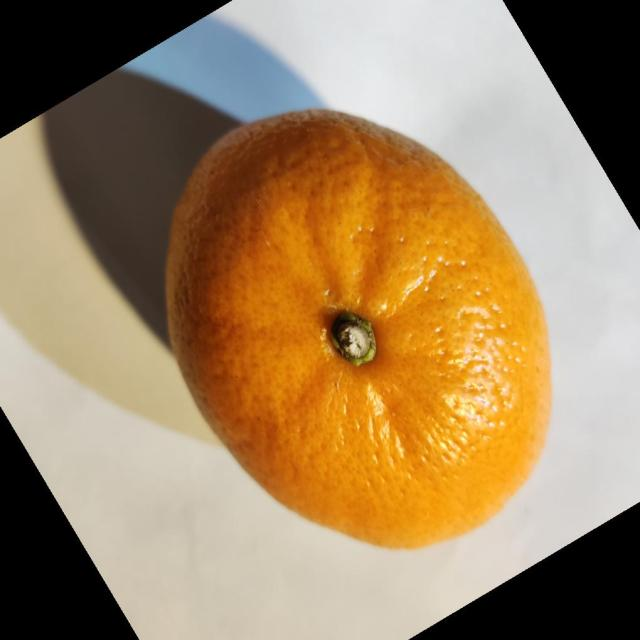fresh orange: (163, 106, 553, 550)
